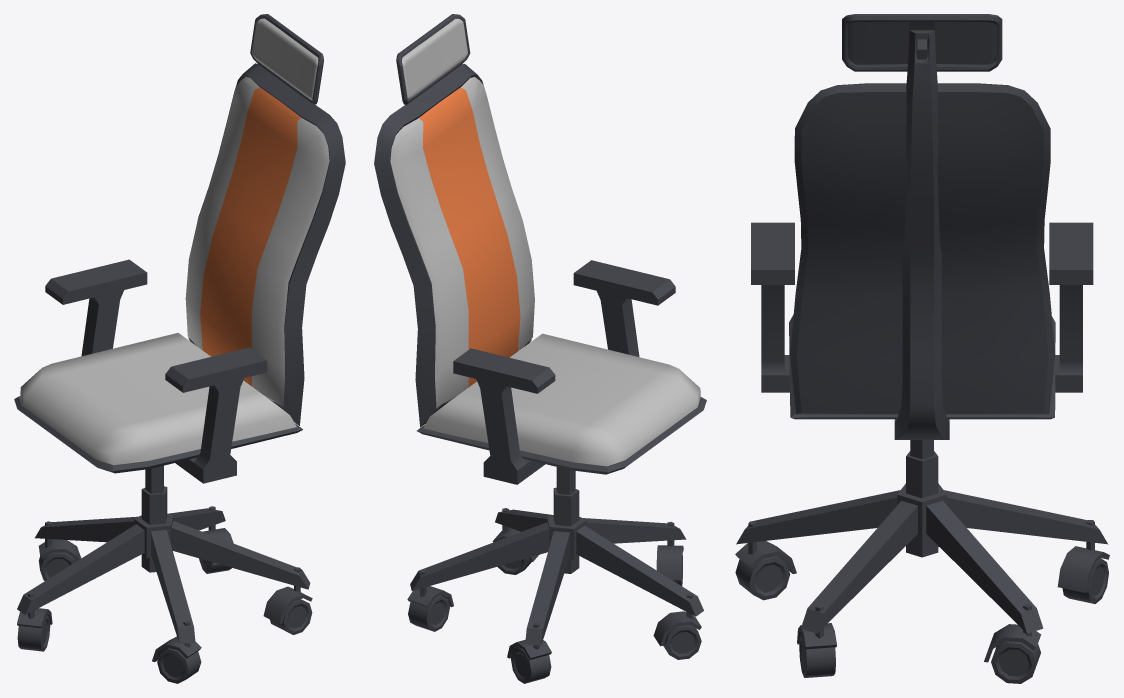
File: PraedatumChair.glb
3 renders of one model, left to right at view 1: azimuth 30°, elevation 25°; view 2: azimuth 150°, elevation 25°; view 3: azimuth 270°, elevation 25°, orthographic. The views are drawn at different scales.
Parts seen in each view (by area): view 1: Cushion, Frame, Wheels; view 2: Cushion, Frame, Wheels; view 3: Frame, Wheels, Cushion.
Boxes of the visible parts, left/top/right/bottom form: Cushion: left=20, top=18, right=329, bottom=465; Frame: left=14, top=14, right=345, bottom=661; Wheels: left=17, top=506, right=312, bottom=683; Cushion: left=390, top=18, right=700, bottom=466; Frame: left=374, top=14, right=706, bottom=659; Wheels: left=408, top=508, right=701, bottom=683; Frame: left=735, top=14, right=1109, bottom=662; Wheels: left=735, top=520, right=1108, bottom=683; Cushion: left=848, top=22, right=995, bottom=64.
Bounding box in the file's own units: 0.8557 × 1.57 × 0.7779.
